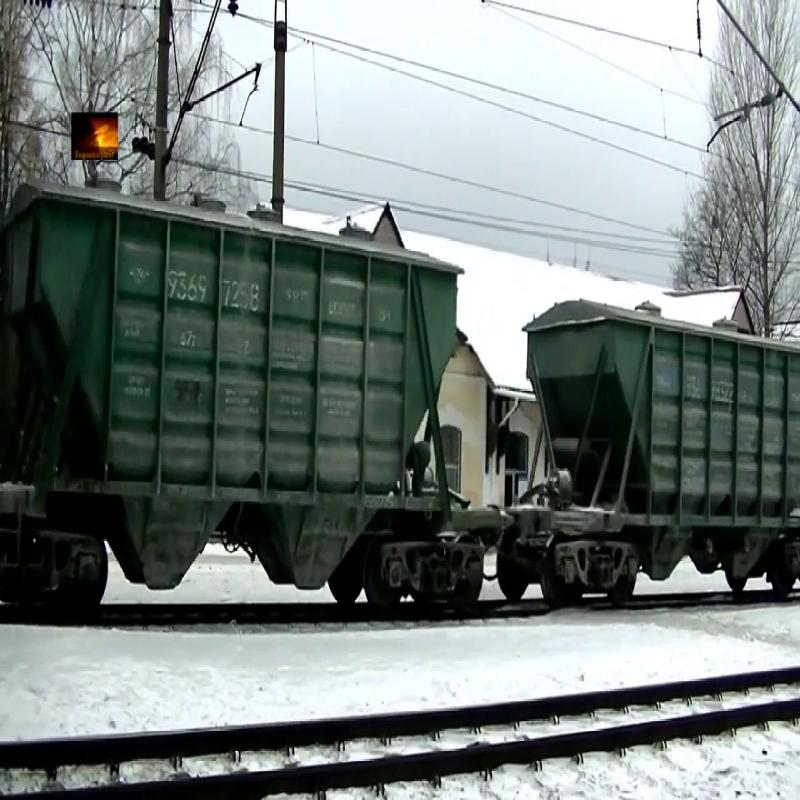train: (1, 176, 492, 612), (518, 295, 800, 623)
